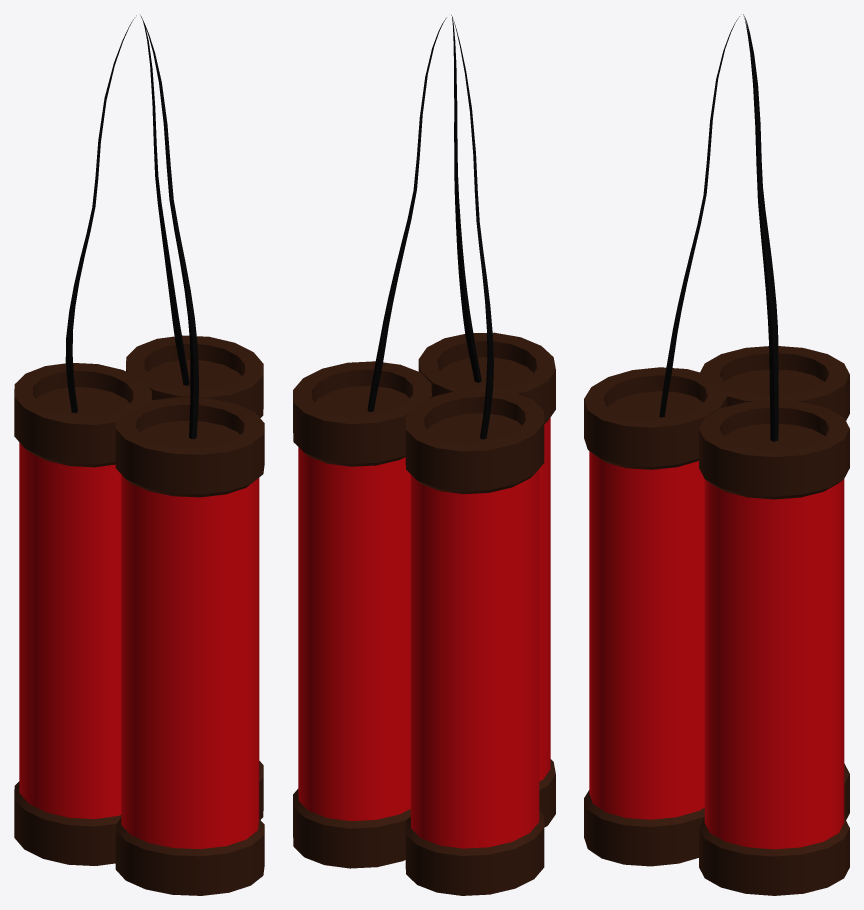
Rendered from Conjunto Dinamite.fbx.
3 renders of one model, left to right at view 1: azimuth 30°, elevation 25°; view 2: azimuth 150°, elevation 25°; view 3: azimuth 270°, elevation 25°, orthographic.
Parts seen in each view (by area): view 1: Cylinder.004; view 2: Cylinder.004; view 3: Cylinder.004.
Part boxes in pixels (x1=…): Cylinder.004: x1=14, y1=15, x2=264, y2=895; Cylinder.004: x1=293, y1=15, x2=555, y2=895; Cylinder.004: x1=584, y1=14, x2=849, y2=895.
Bounding box in the file's own units: 30.09 × 103 × 30.35.
